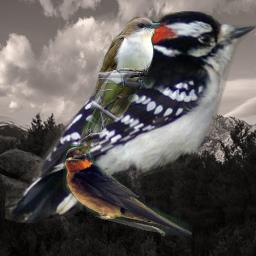Cuckoo: (72, 15, 160, 158)
Swallow: (63, 144, 193, 236)
Woodpecker: (4, 11, 256, 223)
